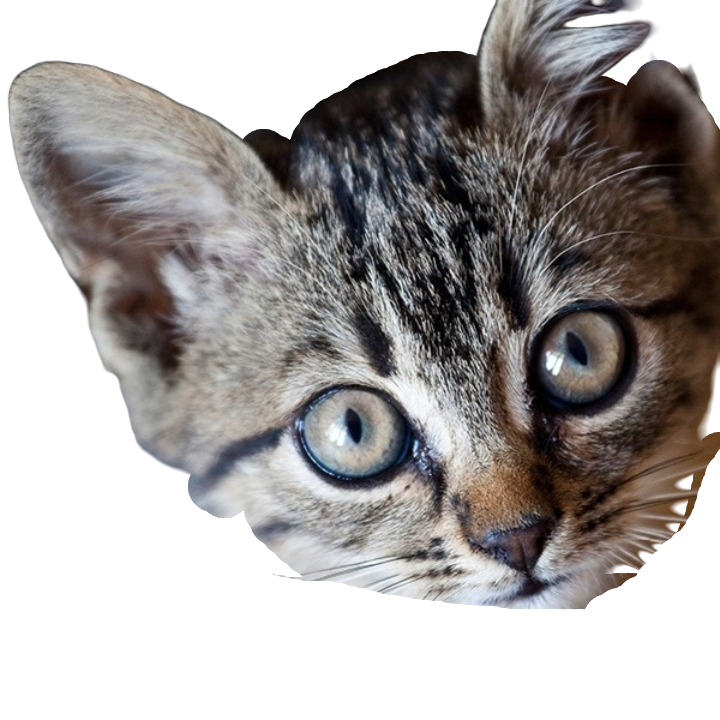Cat: (2, 0, 719, 619)
